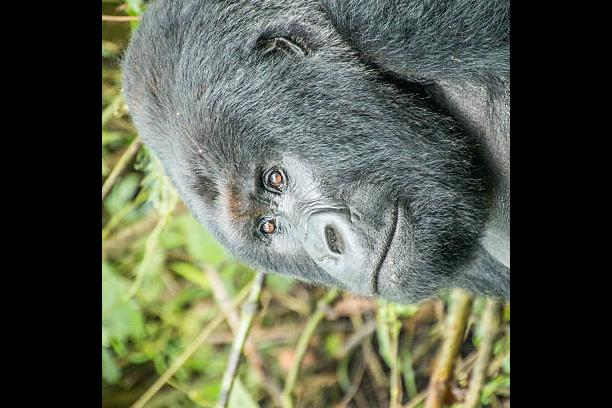goriile_montagne: (104, 0, 510, 299)
